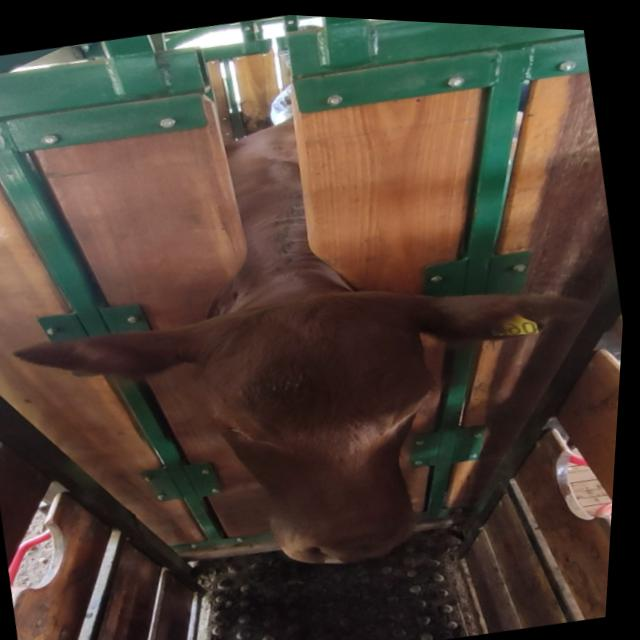cowFace: (184, 270, 470, 583)
